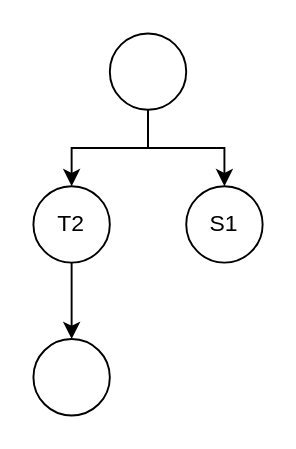
The diagram is 296 pixels wide and 449 high, and some of its shapes have lost their labels. The centre of each missing label's shape, as x and y in pixels:
"S2" goes at point (71, 376).
"T1" goes at point (147, 71).
